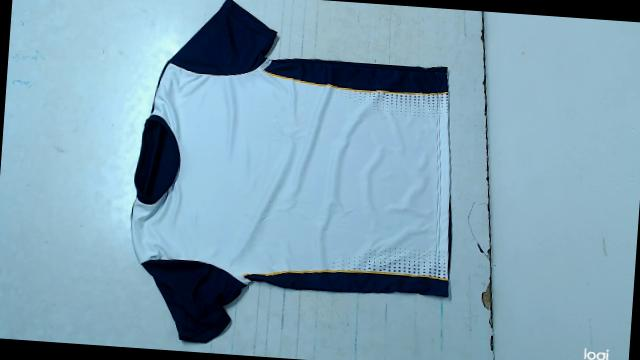new-garment: (130, 0, 450, 342)
